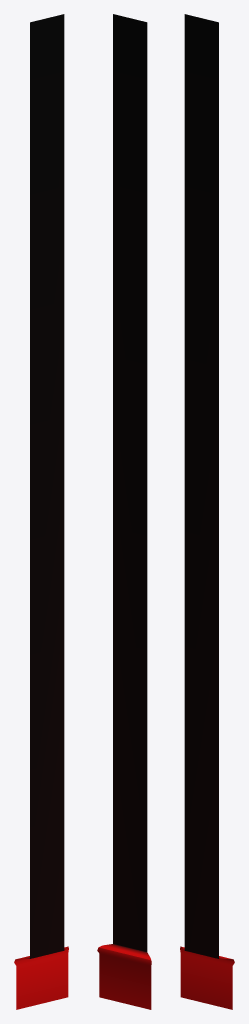
The model's file is HouseWall-InteriorCornerOutFill.fbx.
3 renders of one model, left to right at view 1: azimuth 30°, elevation 25°; view 2: azimuth 150°, elevation 25°; view 3: azimuth 330°, elevation 25°, orthographic.
Visible parts, largest first — view 1: HouseWall_InteriorCornerOutFill; view 2: HouseWall_InteriorCornerOutFill; view 3: HouseWall_InteriorCornerOutFill.
Boxes of the visible parts, x1=… form: HouseWall_InteriorCornerOutFill: x1=14, y1=14, x2=68, y2=1009; HouseWall_InteriorCornerOutFill: x1=97, y1=14, x2=151, y2=1009; HouseWall_InteriorCornerOutFill: x1=180, y1=14, x2=234, y2=1009.
Bounding box in the file's own units: 23.25 × 400 × 4.22.
